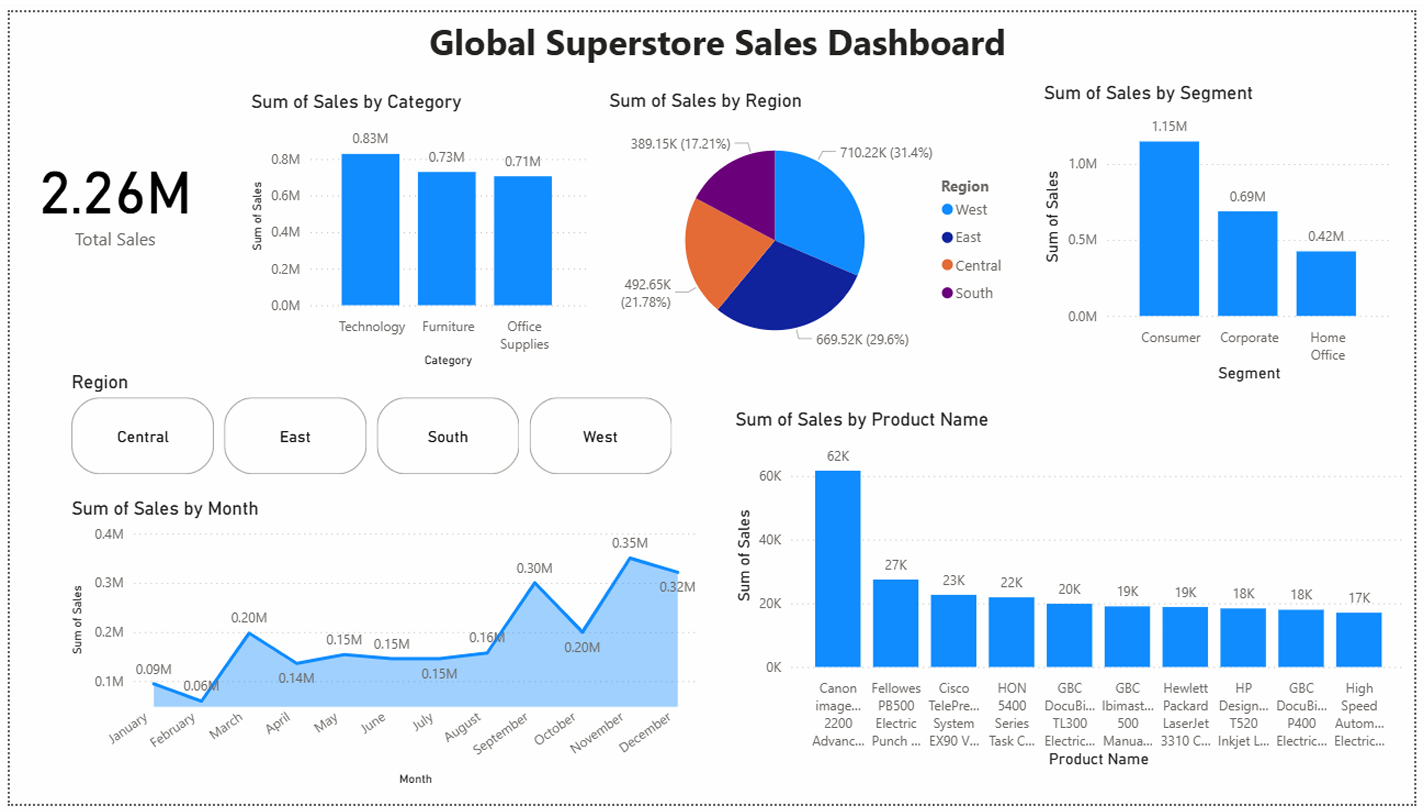

What the dashboard file says about the page in this screenshot:
{"tool":"powerbi","page":{"name":"Page 1","canvas":[1280,720],"ordinal":0},"visuals":[{"type":"columnChart","fields":{"Category":["train.Category"],"Y":["Sum(train.Sales)"]},"box":[215,71.2,315,256.2],"z":0},{"type":"pieChart","fields":{"Category":["train.Region"],"Y":["Sum(train.Sales)"]},"box":[541.2,70,377.5,256.2],"z":1000},{"type":"clusteredColumnChart","fields":{"Category":["train.Segment"],"Y":["Sum(train.Sales)"]},"box":[937.5,62.5,326.2,278.8],"z":2000},{"type":"columnChart","fields":{"Category":["train.Product Name"],"Y":["Sum(train.Sales)"]},"box":[655,376.2,621.2,332.5],"z":3000},{"type":"lineChart","fields":{"Y":["Sum(train.Sales)"],"Category":["train.Order Date.Variation.Date Hierarchy.Month"]},"box":[51.2,441.2,580,267.5],"z":4000},{"type":"card","fields":{"Values":["Sum(train.Sales)"]},"box":[8.8,71.2,175,192.5],"z":5000},{"type":"advancedSlicerVisual","fields":{"Values":["train.Region"]},"box":[51.2,326.2,557.5,100],"z":6000},{"type":"textbox","box":[323.8,0,642.5,62.5],"z":7000}]}

Visuals, with their boxes in screenshot pixels (x1, y1, x2, y2), scaled from the page's 1280x720 canvas onto the 1425x812 screenshot:
columnChart - train.Category x Sum(train.Sales): crop(239, 80, 590, 369)
pieChart - train.Region x Sum(train.Sales): crop(603, 79, 1023, 368)
clusteredColumnChart - train.Segment x Sum(train.Sales): crop(1044, 70, 1407, 385)
columnChart - train.Product Name x Sum(train.Sales): crop(729, 424, 1421, 799)
lineChart - Sum(train.Sales) x train.Order Date.Variation.Date Hierarchy.Month: crop(57, 498, 703, 799)
card - Sum(train.Sales): crop(10, 80, 205, 297)
advancedSlicerVisual - train.Region: crop(57, 368, 678, 481)
textbox: crop(360, 0, 1076, 70)
